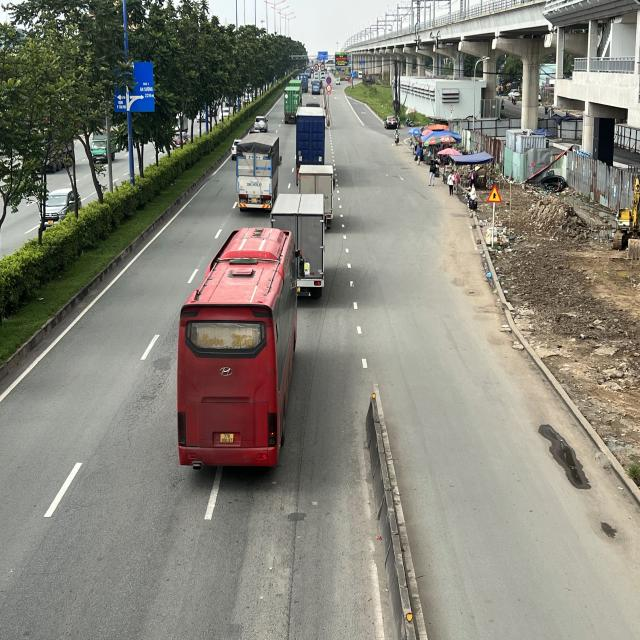coach: (175, 227, 305, 470)
container: (294, 105, 328, 165), (254, 114, 267, 130)
truck: (236, 133, 282, 210)
